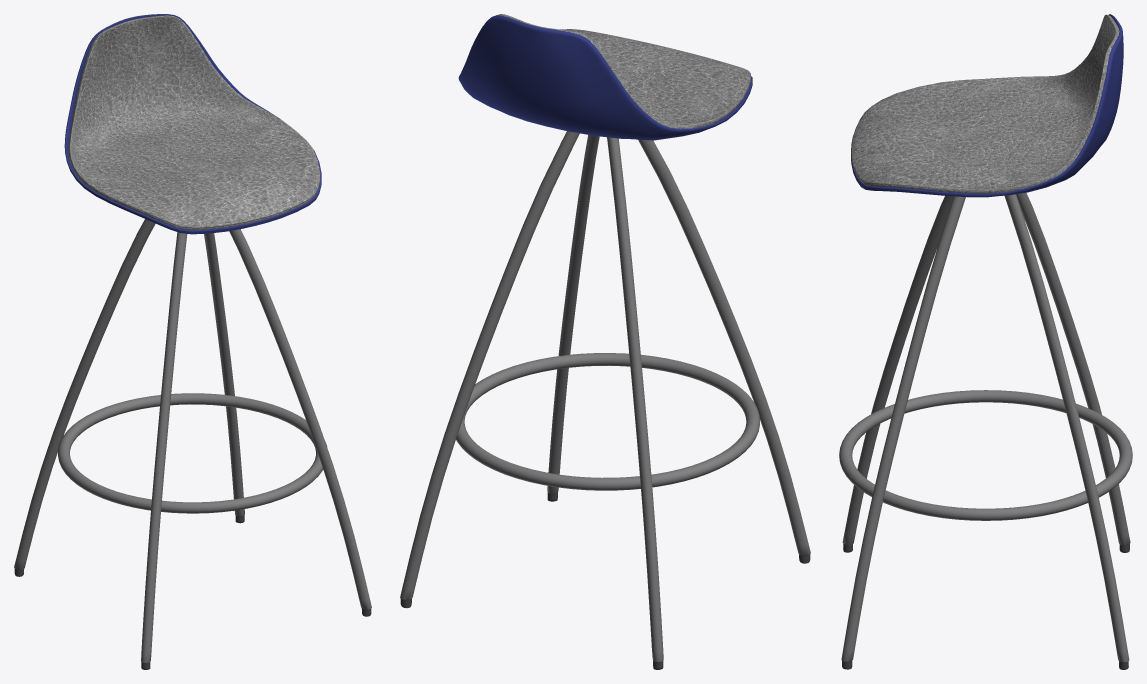
File: kitchen_stool.glb
The picture shows the model from 3 angles, left to right: view 1: azimuth 30°, elevation 25°; view 2: azimuth 150°, elevation 25°; view 3: azimuth 270°, elevation 25°; orthographic projection. The views are drawn at different scales.
Parts seen in each view (by area): view 1: leather_stool_Circle.003, stool_legs_Circle, foot_stool_Mesh, base_stool_Circle.002; view 2: stool_legs_Circle, base_stool_Circle.002, leather_stool_Circle.003, foot_stool_Mesh; view 3: leather_stool_Circle.003, stool_legs_Circle, foot_stool_Mesh, base_stool_Circle.002.
Boxes of the visible parts, x1,y1,x2,y2 form: leather_stool_Circle.003: (68,15,320,230); stool_legs_Circle: (14,219,371,669); foot_stool_Mesh: (58,393,327,513); base_stool_Circle.002: (64,14,321,234); stool_legs_Circle: (400,131,810,669); base_stool_Circle.002: (458,15,752,140); leather_stool_Circle.003: (497,14,750,128); foot_stool_Mesh: (456,353,759,490); leather_stool_Circle.003: (851,14,1119,193); stool_legs_Circle: (841,193,1130,669); foot_stool_Mesh: (839,390,1132,520); base_stool_Circle.002: (851,14,1123,197).
Size of the model in its own units: 0.4522 by 0.9831 by 0.4522.
Materials: 4 (1 with a texture image).
